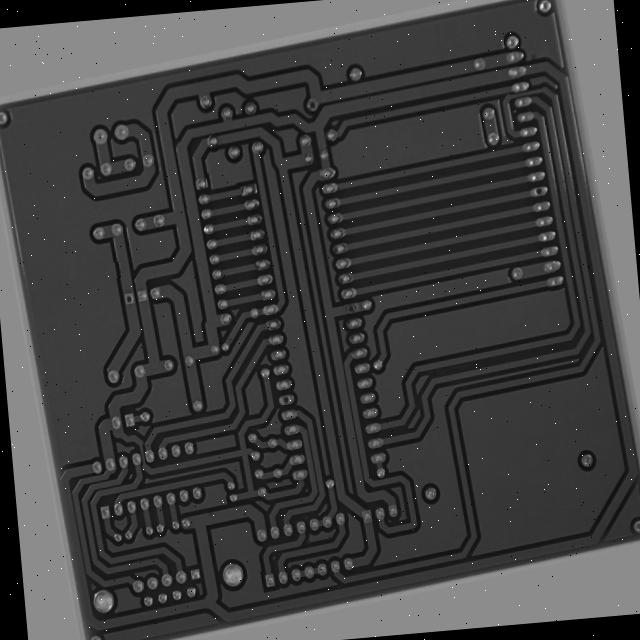missing_hole: (343, 299, 363, 318), (321, 69, 339, 90), (558, 196, 577, 215), (266, 395, 283, 413), (108, 260, 120, 277)
